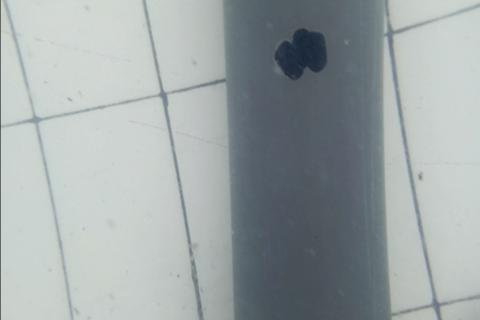kebocoran: (271, 25, 328, 84)
